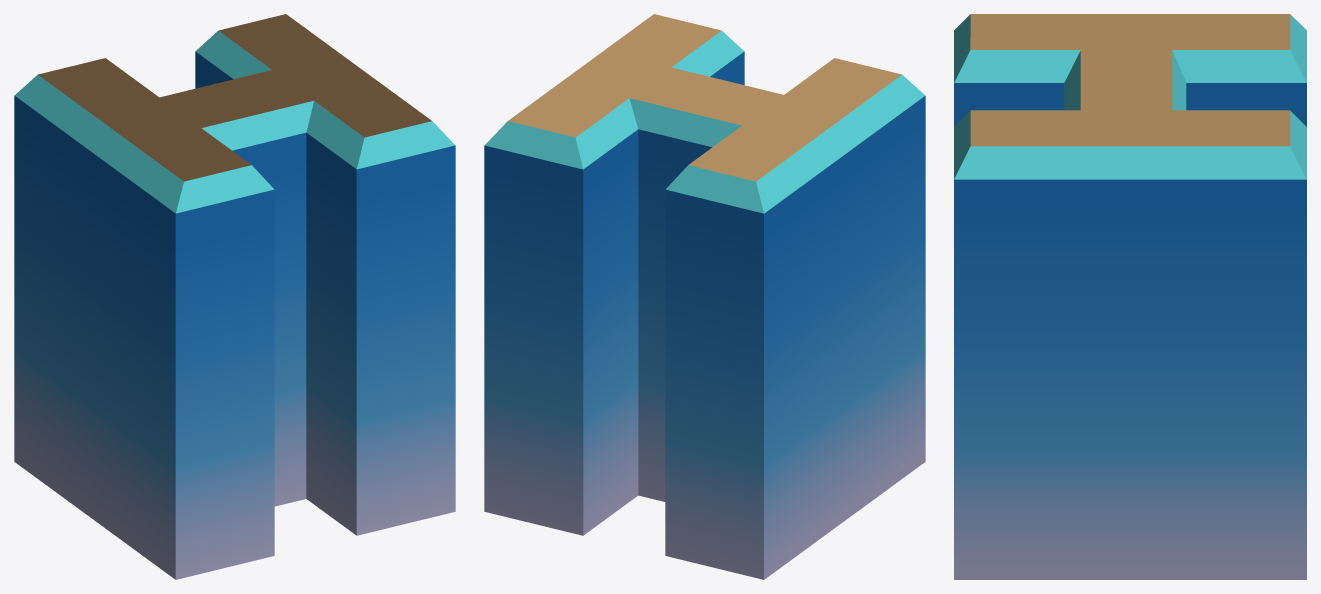
The picture shows the model from 3 angles, left to right: view 1: azimuth 30°, elevation 25°; view 2: azimuth 150°, elevation 25°; view 3: azimuth 270°, elevation 25°; orthographic projection. The views are drawn at different scales.
Visible parts, largest first — view 1: Joint_0_Object_0, Joint_0_Object_1; view 2: Joint_0_Object_0, Joint_0_Object_1; view 3: Joint_0_Object_0, Joint_0_Object_1.
Part boxes in pixels (left/top/right/bottom): Joint_0_Object_0: left=14, top=30, right=455, bottom=579; Joint_0_Object_1: left=38, top=14, right=431, bottom=181; Joint_0_Object_0: left=484, top=30, right=925, bottom=579; Joint_0_Object_1: left=508, top=14, right=901, bottom=181; Joint_0_Object_0: left=954, top=14, right=1306, bottom=579; Joint_0_Object_1: left=970, top=14, right=1290, bottom=146.
Size of the model in its own units: 105 by 140 by 105.
